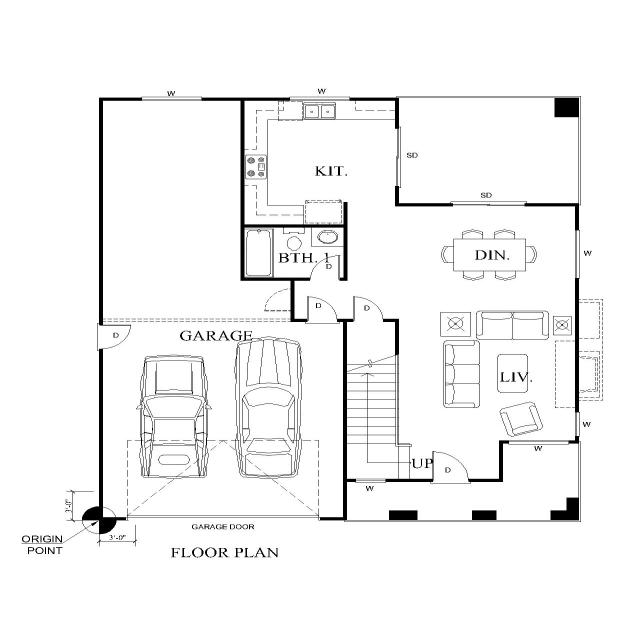Column: (550, 496, 580, 522), (554, 97, 580, 118), (387, 510, 419, 521), (471, 510, 497, 521)
Door: (352, 317, 384, 324), (289, 288, 297, 312), (306, 318, 338, 323), (309, 277, 341, 282), (432, 478, 470, 482), (99, 324, 105, 349)
Garage Door: (125, 516, 321, 520)
Sliding Door: (394, 128, 400, 187), (452, 202, 526, 206)
Staircase: (346, 321, 413, 480)
Window: (288, 96, 352, 102), (140, 96, 202, 102), (575, 230, 581, 278), (508, 440, 570, 444), (355, 478, 387, 484), (575, 412, 581, 438)
